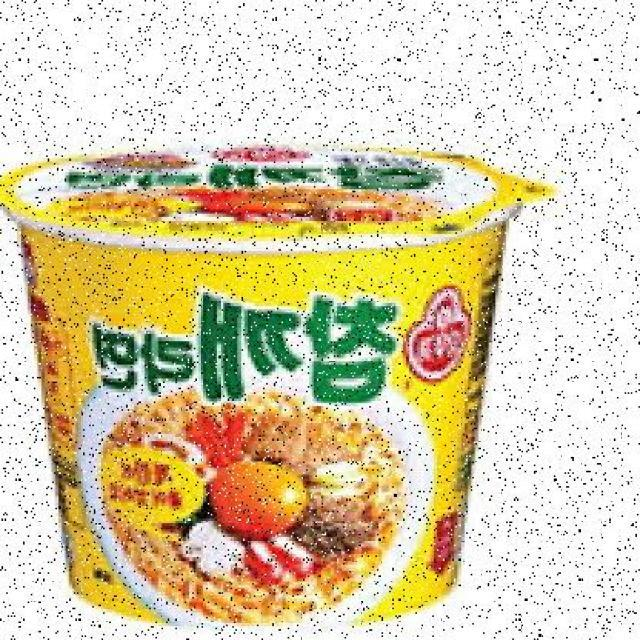Miscellaneous: (0, 137, 534, 634)
